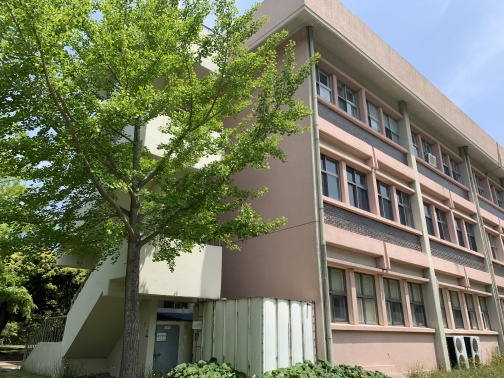College Of Education: (30, 23, 498, 378), (206, 14, 503, 371)
